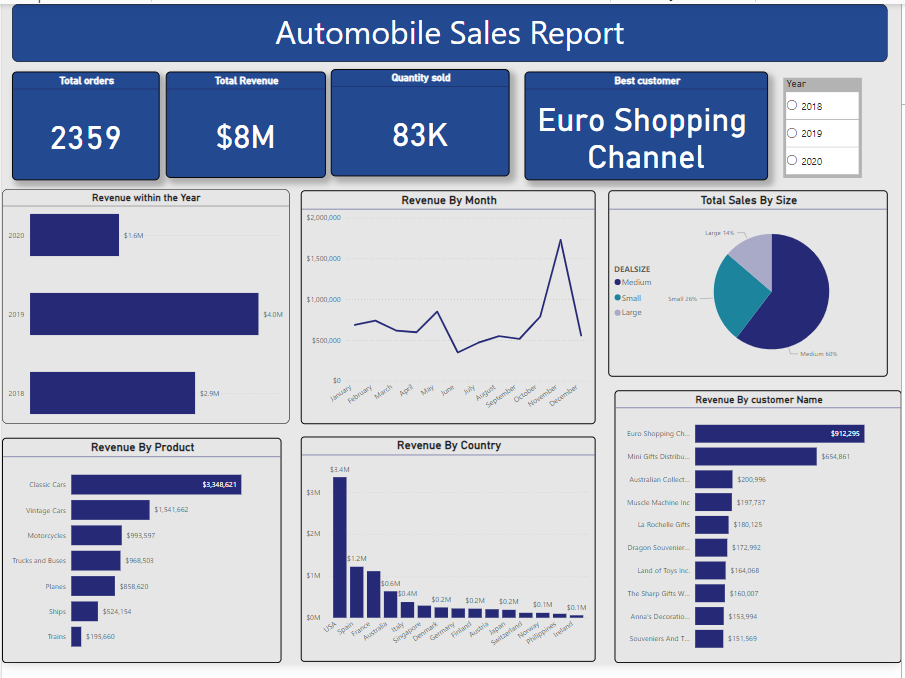

The dashboard page shown, as its layout file describes it:
{"tool":"powerbi","page":{"name":"Page 1","canvas":[1500,1100],"ordinal":0},"visuals":[{"type":"textbox","box":[16.8,0,1460.9,97.1],"z":0},{"type":"card","title":"Total orders","fields":{"Values":["CountNonNull(Auto Sales data.Order_number)"]},"box":[16.6,112.6,246.1,181.5],"z":0,"group":"g1"},{"type":"card","title":"Total Revenue","fields":{"Values":["Sum(Auto Sales data.SALES)"]},"box":[273.2,112.6,267,177.3],"z":1000},{"type":"lineChart","title":"Revenue By Month","fields":{"Category":["Auto Sales data.ORDERDATE.Variation.Date Hierarchy.Month"],"Y":["Sum(Auto Sales data.SALES)"]},"box":[499.5,311.5,492.1,390.8],"z":2000},{"type":"card","title":"Quantity sold","fields":{"Values":["Sum(Auto Sales data.Quantity)"]},"box":[549.2,109.3,298.3,179.4],"z":3000,"group":"g1"},{"type":"barChart","title":"Revenue By Product","fields":{"Category":["Auto Sales data.Product"],"Y":["Sum(Auto Sales data.SALES)"]},"box":[0,724.4,466.3,376],"z":3000},{"type":"card","title":"Best customer","fields":{"Values":["Min(Auto Sales data.CUSTOMERNAME)"]},"box":[872.5,112.8,406.7,181.5],"z":4000,"group":"g1"},{"type":"columnChart","title":"Revenue By Country","fields":{"Category":["Auto Sales data.COUNTRY"],"Y":["Sum(Auto Sales data.SALES)"]},"box":[499.5,720.7,492.1,376],"z":4000},{"type":"pieChart","title":"Total Sales By Size","fields":{"Category":["Auto Sales data.DEALSIZE"],"Y":["Sum(Auto Sales data.SALES)"]},"box":[1011.9,311.5,466.3,311.5],"z":5000},{"type":"barChart","title":"Revenue By customer  Name","fields":{"Category":["Auto Sales data.CUSTOMERNAME"],"Y":["Sum(Auto Sales data.SALES)"]},"box":[1021.1,645.1,457.1,455.3],"z":6000},{"type":"group","id":"g1","title":"Group 1","box":[16.6,109.3,1262.6,185],"z":7000},{"type":"barChart","title":"Revenue within the Year","fields":{"Y":["Sum(Auto Sales data.SALES)"],"Category":["Auto Sales data.ORDERDATE.Variation.Date Hierarchy.Year"]},"box":[0,308.7,479.7,392.1],"z":8000},{"type":"listSlicer","fields":{"Values":["Auto Sales data.ORDERDATE.Variation.Date Hierarchy.Year"]},"box":[1303.6,123.1,131.4,166.9],"z":9000}]}

Visuals, with their boxes in screenshot pixels (x1, y1, x2, y2), scaled from the page's 1500x1100 canvas onto the 905x678 screenshot:
textbox: 10, 0, 892, 60
"Total orders" card: 10, 69, 158, 181
"Total Revenue" card: 165, 69, 326, 179
"Revenue By Month" lineChart: 301, 192, 598, 433
"Quantity sold" card: 331, 67, 511, 178
"Revenue By Product" barChart: 0, 446, 281, 677
"Best customer" card: 526, 70, 772, 181
"Revenue By Country" columnChart: 301, 444, 598, 676
"Total Sales By Size" pieChart: 611, 192, 892, 384
"Revenue By customer  Name" barChart: 616, 398, 892, 677
"Group 1" group: 10, 67, 772, 181
"Revenue within the Year" barChart: 0, 190, 289, 432
listSlicer - Auto Sales data.ORDERDATE.Variation.Date Hierarchy.Year: 787, 76, 866, 179
